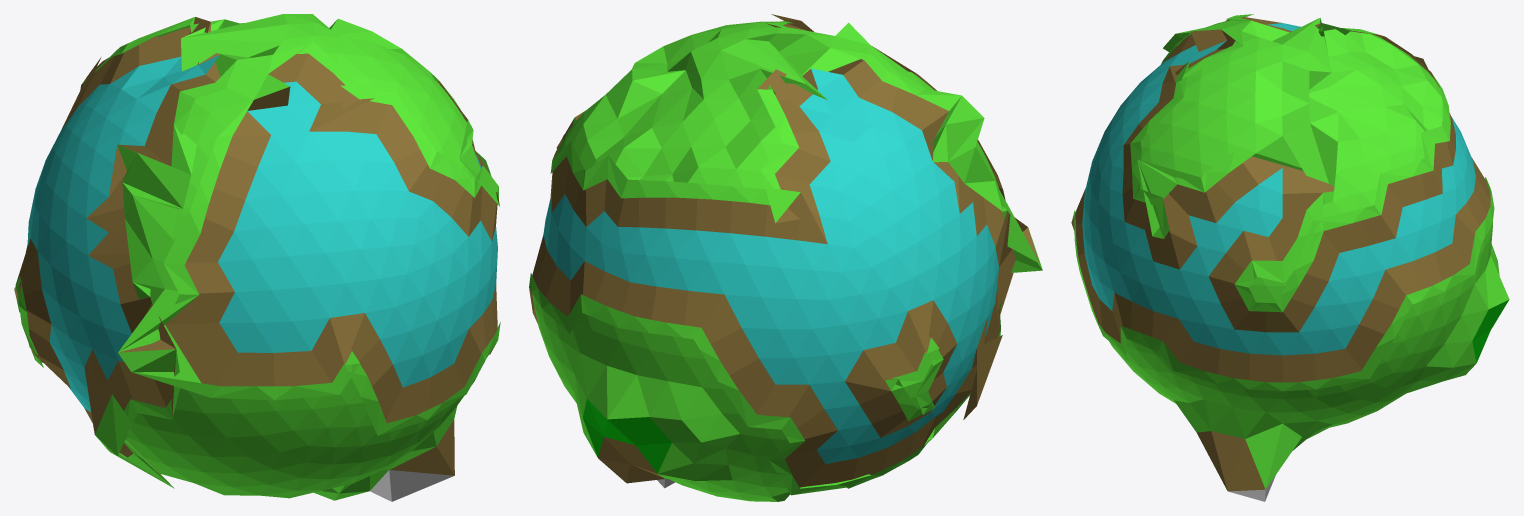
The model's file is EarthTypePlanet.fbx.
3 views of the same model, side by side, from view 1: azimuth 30°, elevation 25°; view 2: azimuth 150°, elevation 25°; view 3: azimuth 270°, elevation 25° (orthographic). The views are drawn at different scales.
Visible parts, largest first — view 1: Icosphere; view 2: Icosphere; view 3: Icosphere.
Boxes of the visible parts, x1=… form: Icosphere: x1=14, y1=14, x2=500, y2=501; Icosphere: x1=529, y1=14, x2=1042, y2=501; Icosphere: x1=1071, y1=14, x2=1509, y2=501.
Size of the model in its own units: 1047 by 1153 by 1093.
